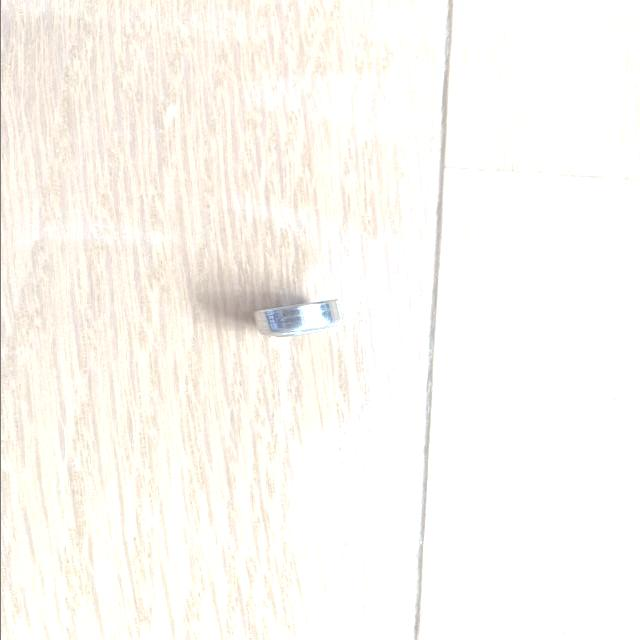COIN: (247, 296, 348, 348)
